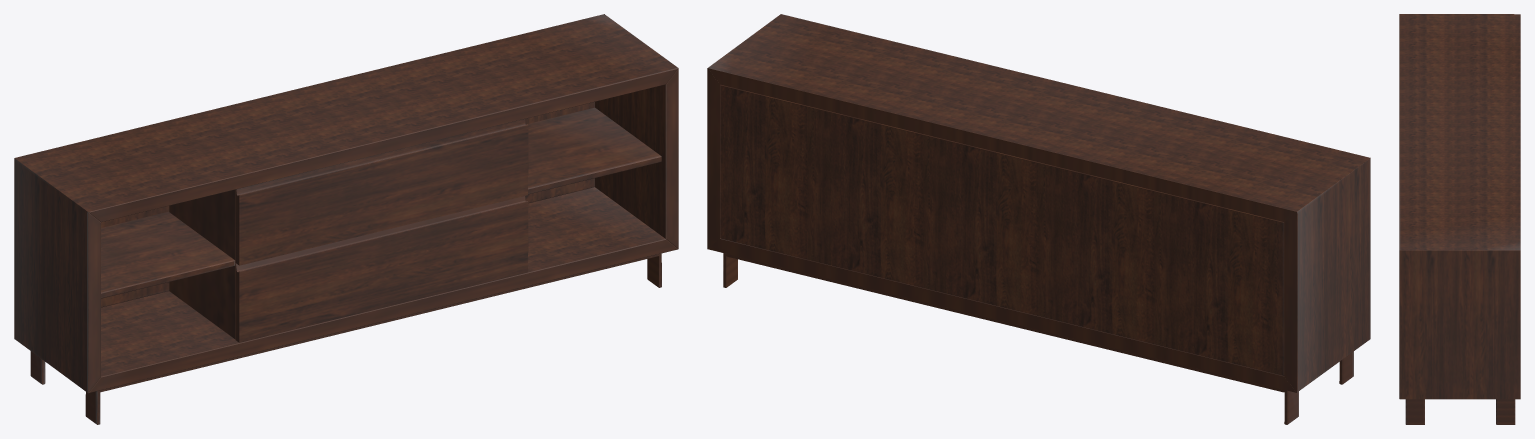
Rendered from raw_model.obj.
3 views of the same model, side by side, from view 1: azimuth 30°, elevation 25°; view 2: azimuth 150°, elevation 25°; view 3: azimuth 270°, elevation 25° (orthographic). The views are drawn at different scales.
Parts seen in each view (by area): view 1: solid_001; view 2: solid_001; view 3: solid_001.
Part boxes in pixels (x1=…): solid_001: x1=14, y1=14, x2=678, y2=424; solid_001: x1=707, y1=14, x2=1370, y2=424; solid_001: x1=1399, y1=14, x2=1520, y2=424.
Bounding box in the file's own units: 1.84 × 0.6526 × 0.4.
1 material, 1 textured.
